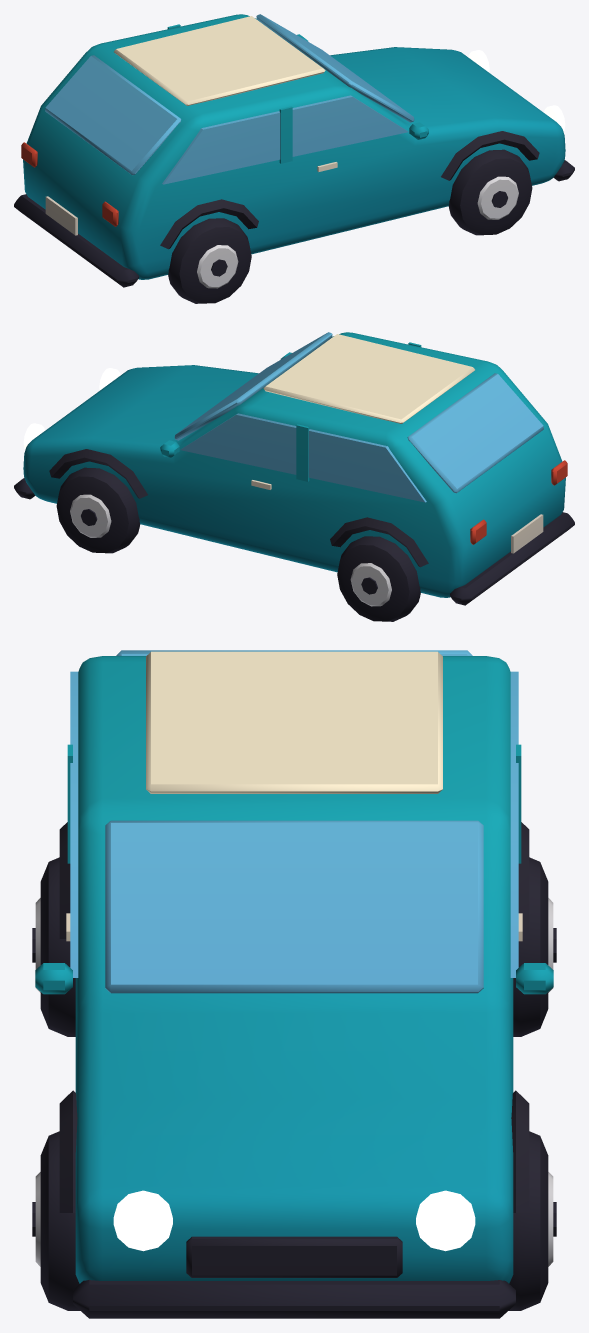
Rendered from car.glb.
3 renders of one model, top to bottom at view 1: azimuth 30°, elevation 25°; view 2: azimuth 150°, elevation 25°; view 3: azimuth 270°, elevation 25°, orthographic. The views are drawn at different scales.
Visible parts, largest first — view 1: car; view 2: car; view 3: car.
Boxes of the visible parts, <box> form: car: <box>14,14,574,303</box>; car: <box>14,332,574,621</box>; car: <box>32,650,556,1318</box>.
Size of the model in its own units: 3.96 by 1.53 by 1.94.
